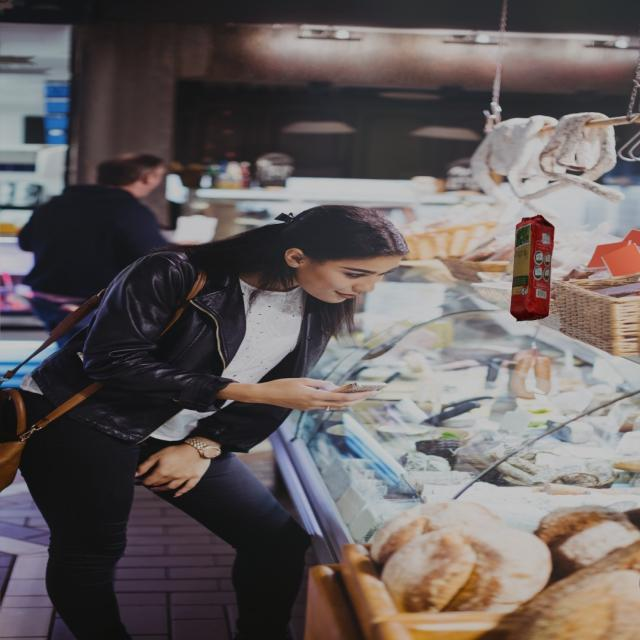mate bag: (513, 208, 554, 318)
